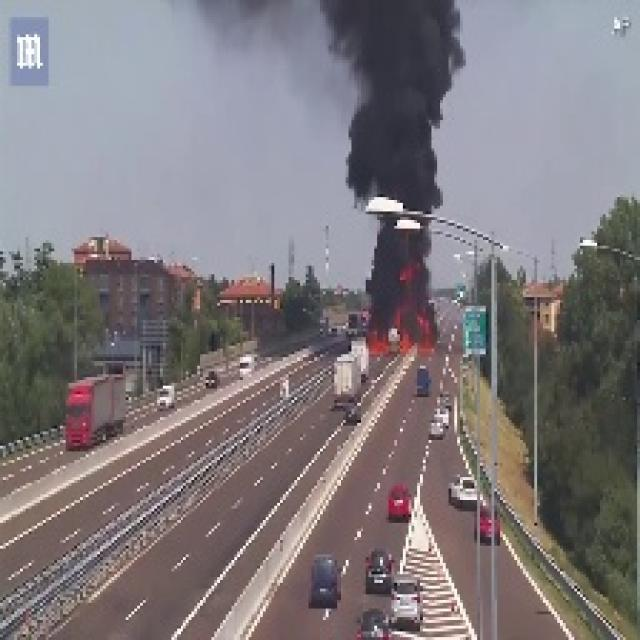fire: (366, 304, 445, 357)
